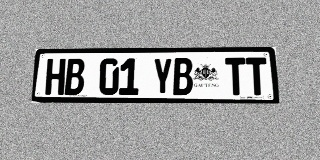0: (99, 58, 119, 95)
1: (119, 58, 139, 95)
B: (64, 58, 85, 95), (173, 58, 193, 95)
H: (45, 59, 66, 95)
T: (225, 57, 247, 95), (246, 57, 268, 95)
Y: (153, 58, 172, 95)
